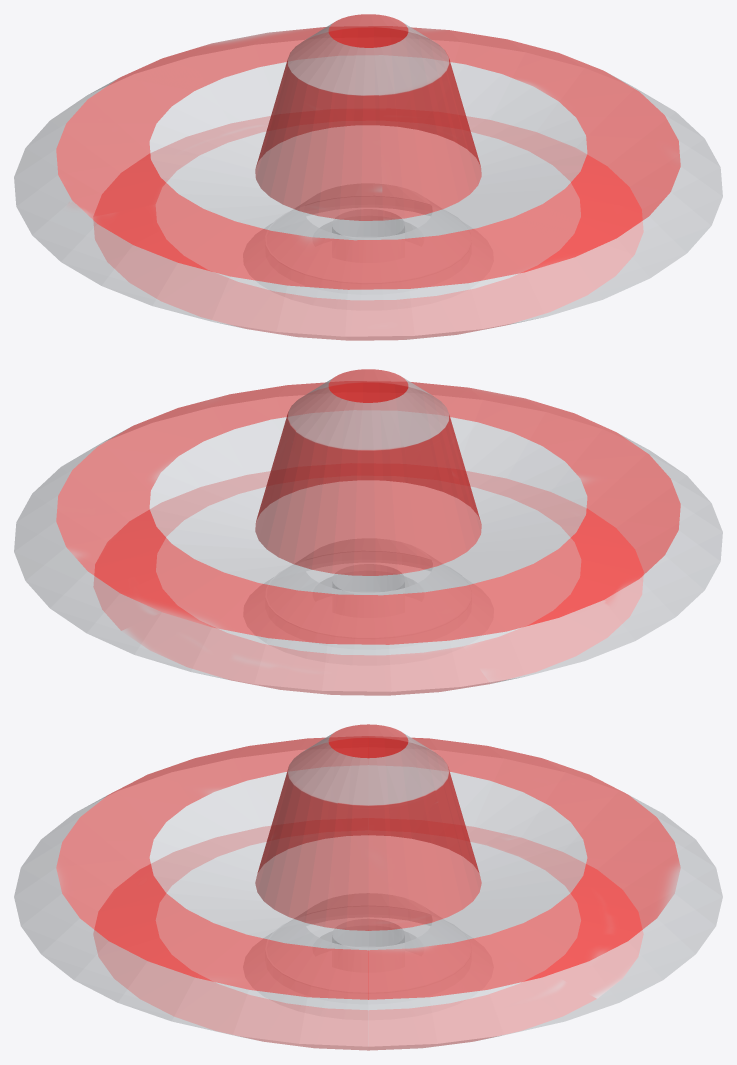
Rendered from spaceshipbred.fbx.
3 views of the same model, one above another, from view 1: azimuth 30°, elevation 25°; view 2: azimuth 150°, elevation 25°; view 3: azimuth 270°, elevation 25° (orthographic).
Visible parts, largest first — view 1: Cylinder; view 2: Cylinder; view 3: Cylinder.
Part boxes in pixels (x1,y1,x2,y2): Cylinder: (14, 14, 722, 340); Cylinder: (14, 369, 722, 695); Cylinder: (14, 724, 722, 1050).
Size of the model in its own units: 1079 by 394 by 1079.
